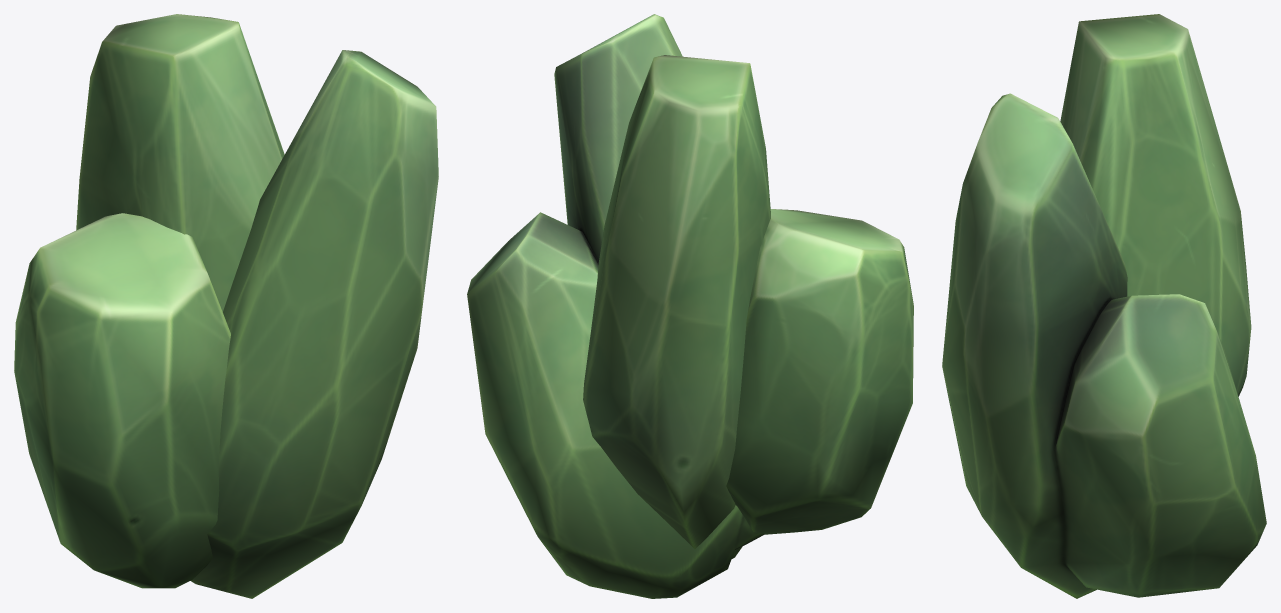
The model's file is SM_Gem_Jade_008.fbx.
3 views of the same model, side by side, from view 1: azimuth 30°, elevation 25°; view 2: azimuth 150°, elevation 25°; view 3: azimuth 270°, elevation 25° (orthographic). The views are drawn at different scales.
Visible parts, largest first — view 1: SM_Gem_Jade_008; view 2: SM_Gem_Jade_008; view 3: SM_Gem_Jade_008.
Boxes of the visible parts, box(x1,y1,x2,y2) form: SM_Gem_Jade_008: box(14, 14, 438, 598); SM_Gem_Jade_008: box(467, 14, 913, 598); SM_Gem_Jade_008: box(942, 14, 1266, 598).
Bounding box in the file's own units: 47.52 × 61.39 × 33.34.
